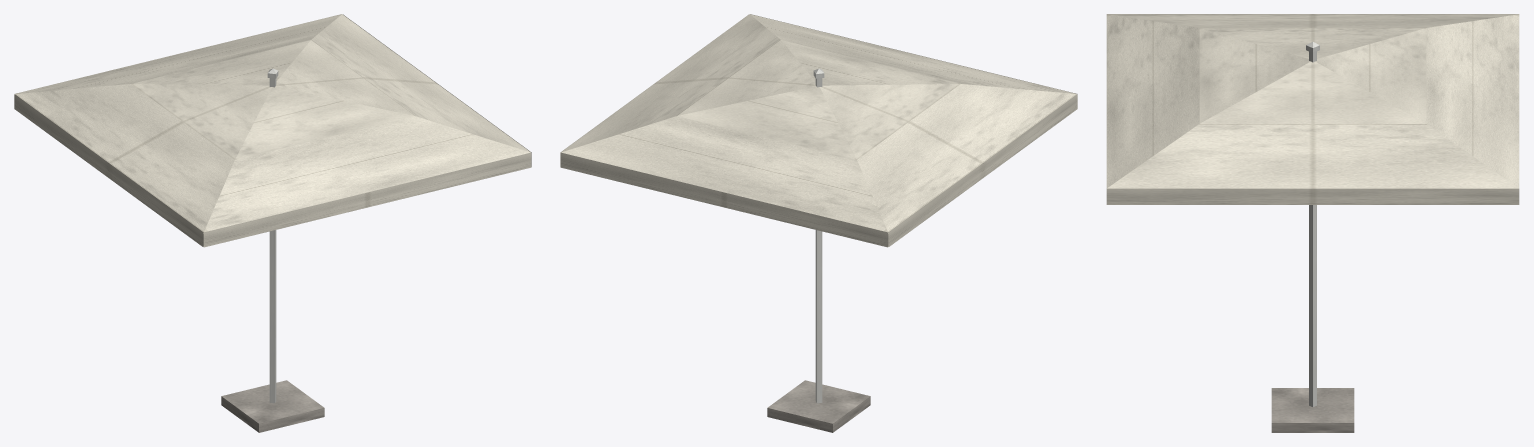
File: SM_Molo_Ombrellone3x3_LOD2.fbx
The picture shows the model from 3 angles, left to right: view 1: azimuth 30°, elevation 25°; view 2: azimuth 150°, elevation 25°; view 3: azimuth 270°, elevation 25°; orthographic projection. The views are drawn at different scales.
Parts seen in each view (by area): view 1: SM_Molo_Ombrellone3x3_LOD2; view 2: SM_Molo_Ombrellone3x3_LOD2; view 3: SM_Molo_Ombrellone3x3_LOD2.
Part boxes in pixels (x1,y1,x2,y2): SM_Molo_Ombrellone3x3_LOD2: [14, 14, 531, 432]; SM_Molo_Ombrellone3x3_LOD2: [560, 14, 1077, 432]; SM_Molo_Ombrellone3x3_LOD2: [1106, 14, 1519, 432].
Size of the model in its own units: 301 by 301 by 300.
Materials: 1 (1 with a texture image).
